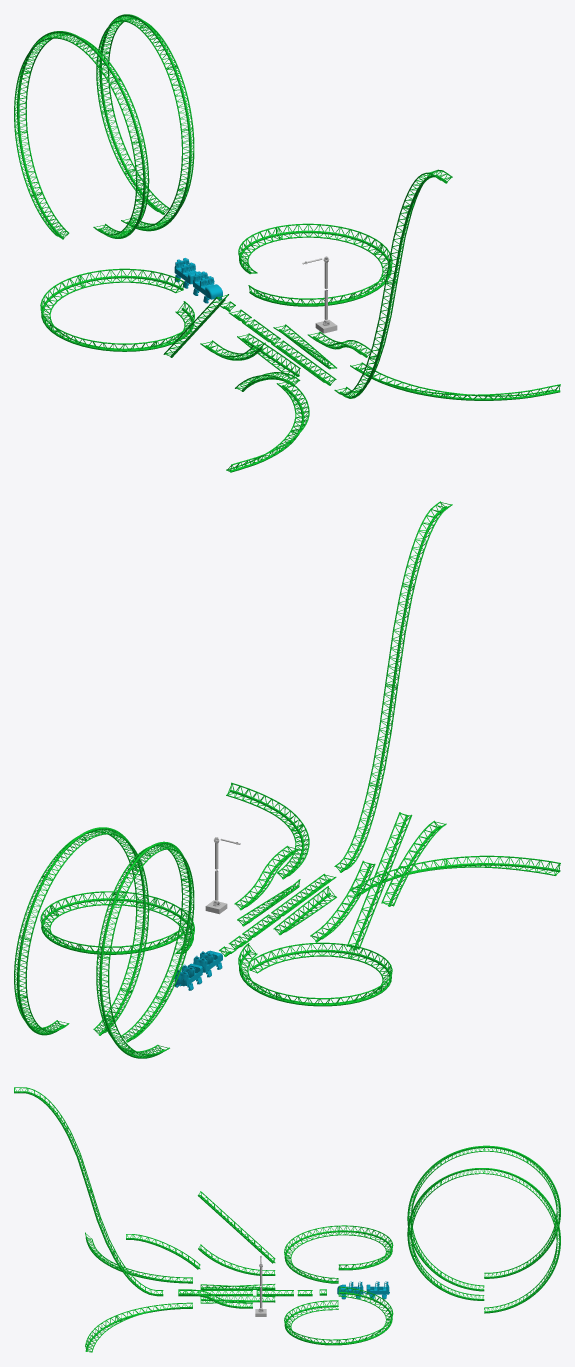
File: Roller_Coaster.fbx
3 renders of one model, top to bottom at view 1: azimuth 30°, elevation 25°; view 2: azimuth 150°, elevation 25°; view 3: azimuth 270°, elevation 25°, orthographic. The views are drawn at different scales.
Parts seen in each view (by area): view 1: Rail_5_2, Rail_5_1, Rail_4_2, Rail_4_1, Rail_6, Rail_3_1, Rail_3_2, Rail_2_2, Rail_8, Cart_1, Rail_1_1; view 2: Rail_5_2, Rail_5_1, Rail_6, Rail_4_2, Rail_4_1, Rail_3_2, Rail_3_1, Rail_8, Rail_9, Rail_7, Rail_10, Rail_2_2; view 3: Rail_5_1, Rail_5_2, Rail_4_2, Rail_4_1, Rail_6, Rail_3_1, Rail_3_2, Rail_8, Rail_2_1, Rail_9, Rail_10, Rail_7 (+1 smaller).
Boxes of the visible parts, box(x1,y1,x2,y2) form: Rail_5_2: box(14, 31, 149, 239); Rail_5_1: box(96, 14, 194, 231); Rail_4_2: box(40, 268, 194, 351); Rail_4_1: box(238, 223, 392, 306); Rail_6: box(334, 169, 452, 398); Rail_3_1: box(350, 362, 560, 400); Rail_3_2: box(226, 380, 309, 472); Rail_2_2: box(237, 333, 300, 379); Rail_8: box(163, 294, 228, 357); Cart_1: box(193, 271, 222, 303); Rail_1_1: box(271, 340, 336, 385); Rail_5_2: box(96, 841, 194, 1058); Rail_5_1: box(14, 827, 149, 1035); Rail_6: box(334, 501, 452, 872); Rail_4_2: box(238, 942, 392, 1006); Rail_4_1: box(40, 891, 194, 954); Rail_3_2: box(350, 855, 560, 896); Rail_3_1: box(226, 782, 309, 879); Rail_8: box(346, 812, 412, 950); Rail_9: box(381, 820, 446, 906); Rail_7: box(310, 860, 375, 942); Rail_10: box(234, 845, 299, 910); Rail_2_2: box(273, 886, 336, 935); Rail_5_1: box(407, 1168, 560, 1313); Rail_5_2: box(407, 1145, 560, 1291); Rail_4_2: box(284, 1225, 393, 1283); Rail_4_1: box(284, 1286, 393, 1345); Rail_6: box(14, 1087, 163, 1296); Rail_3_1: box(85, 1302, 192, 1352); Rail_3_2: box(85, 1232, 192, 1283); Rail_8: box(197, 1191, 275, 1263); Rail_2_1: box(200, 1294, 275, 1303); Rail_9: box(126, 1234, 200, 1269); Rail_10: box(178, 1289, 252, 1308); Rail_7: box(198, 1244, 275, 1275).
Bounding box in the file's own units: 3624 × 3072 × 7328.
